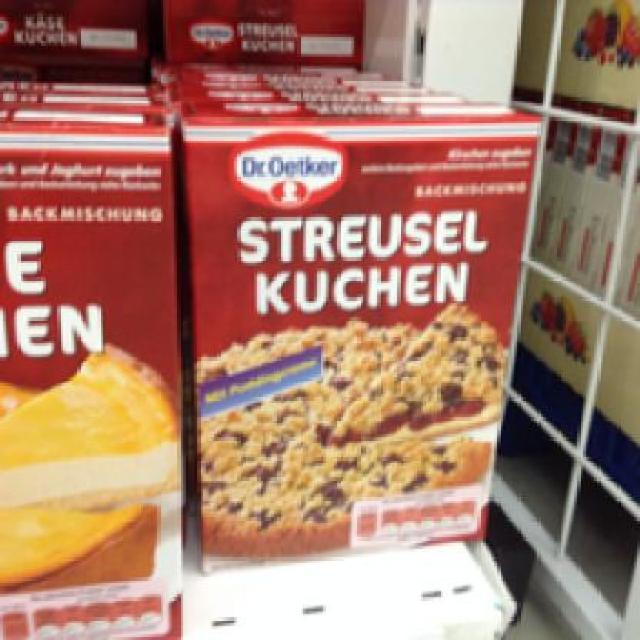Cake: (174, 97, 546, 560), (0, 111, 180, 624)
